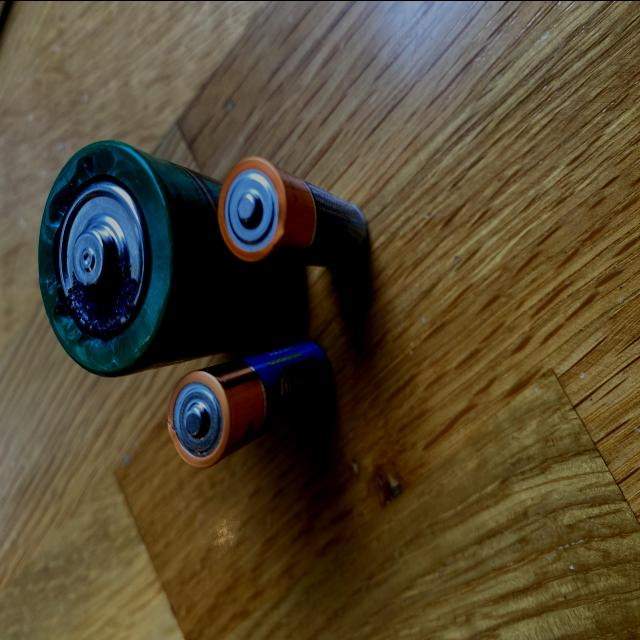AA: (163, 335, 334, 472), (215, 151, 371, 271)
